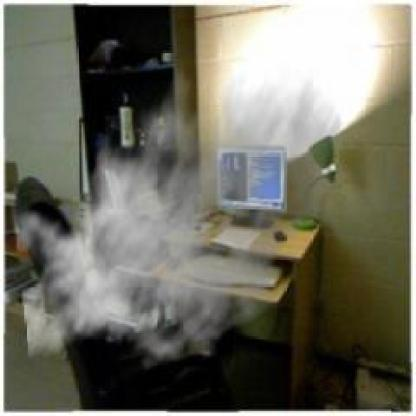Smoke: (13, 44, 348, 381)
